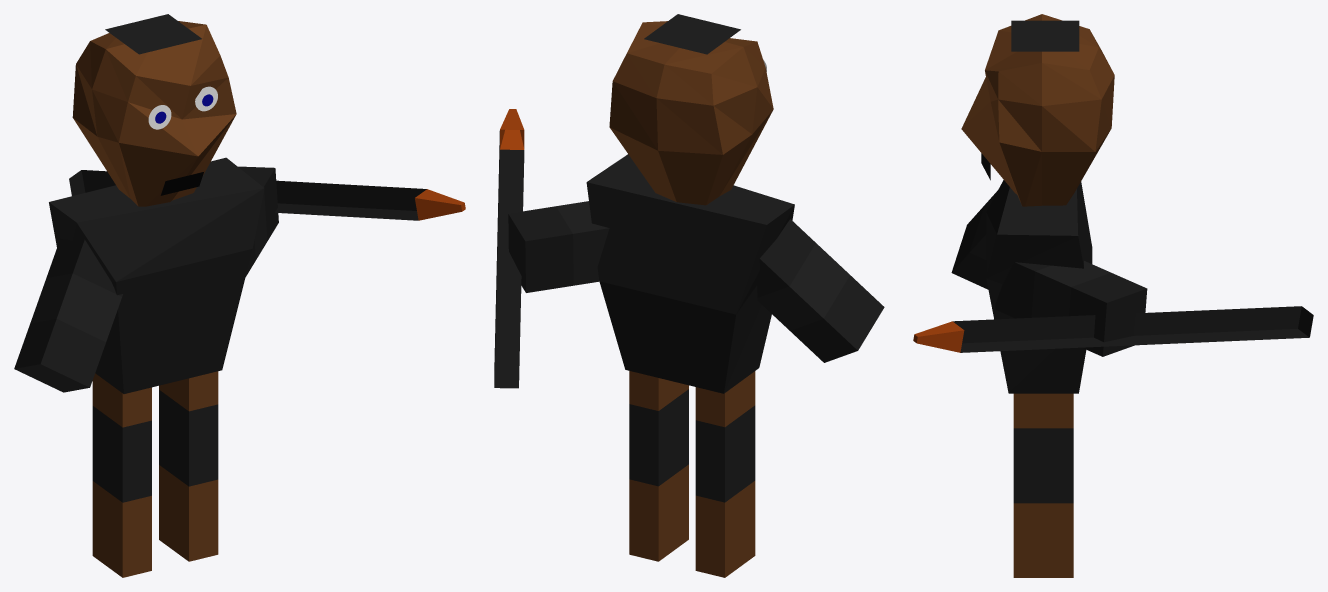
The model's file is spearman1f.obj.
3 views of the same model, side by side, from view 1: azimuth 30°, elevation 25°; view 2: azimuth 150°, elevation 25°; view 3: azimuth 270°, elevation 25° (orthographic).
Visible parts, largest first — view 1: Cube.001, Cube, Cube.004, Cube.005, Cube.003, Cube.007, Plane.002, Cube.002; view 2: Cube.001, Cube, Cube.004, Cube.005, Cube.003, Cube.002, Cube.007, Plane.002; view 3: Cube, Cube.007, Cube.005, Cube.001, Cube.002, Plane.002, Cube.003.
Boxes of the visible parts, <box> form: Cube.001: <box>49,157,264,393</box>; Cube: <box>72,21,236,206</box>; Cube.004: <box>92,373,151,577</box>; Cube.005: <box>159,371,218,561</box>; Cube.003: <box>14,239,122,392</box>; Cube.007: <box>69,170,465,220</box>; Plane.002: <box>105,14,201,54</box>; Cube.002: <box>238,166,278,276</box>; Cube.001: <box>586,154,794,393</box>; Cube: <box>609,21,773,205</box>; Cube.004: <box>695,371,755,577</box>; Cube.005: <box>629,371,688,561</box>; Cube.003: <box>757,219,884,362</box>; Cube.002: <box>508,201,609,292</box>; Cube.007: <box>494,109,524,388</box>; Plane.002: <box>644,14,740,54</box>; Cube: <box>961,14,1114,206</box>; Cube.007: <box>913,306,1313,352</box>; Cube.005: <box>1013,393,1073,577</box>; Cube.001: <box>986,180,1092,393</box>; Cube.002: <box>995,261,1147,356</box>; Plane.002: <box>1011,20,1079,51</box>; Cube.003: <box>951,190,997,289</box>.
Bounding box in the file's own units: 4.72 × 5.87 × 4.11.
